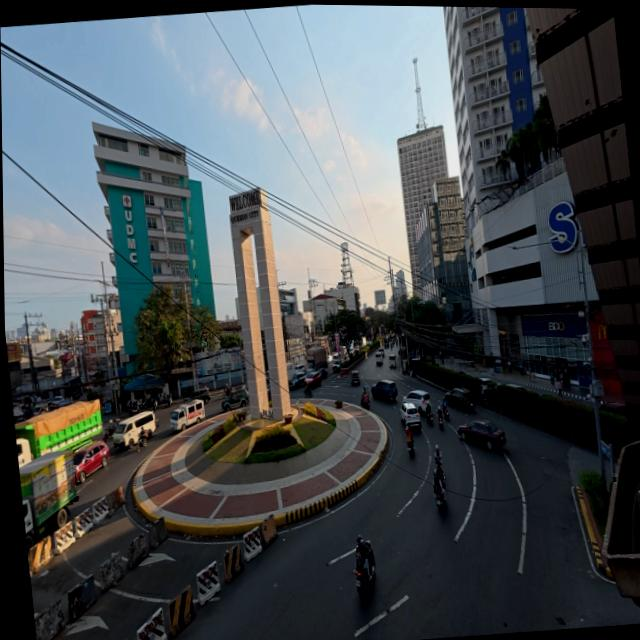car: (71, 439, 112, 484), (458, 420, 505, 449), (222, 385, 249, 411), (404, 390, 432, 414), (446, 388, 475, 411), (400, 402, 421, 430), (371, 381, 398, 400), (600, 402, 627, 416), (289, 371, 307, 389), (187, 388, 210, 402), (480, 378, 497, 396), (305, 371, 322, 389), (33, 405, 50, 415), (507, 383, 528, 391), (54, 399, 72, 408), (51, 396, 64, 407), (351, 370, 361, 384), (319, 368, 328, 379), (294, 364, 306, 371), (333, 362, 340, 372), (383, 340, 390, 348), (378, 348, 384, 356), (349, 347, 354, 356), (366, 339, 371, 345)
motorcycle: (354, 548, 375, 598), (434, 469, 446, 511), (434, 485, 445, 510), (104, 420, 116, 441), (142, 396, 158, 410), (129, 400, 141, 415), (137, 433, 147, 451), (160, 394, 173, 407), (361, 393, 370, 408), (407, 442, 415, 457), (304, 386, 313, 398), (438, 409, 443, 429), (444, 407, 450, 421), (427, 412, 433, 424), (439, 415, 443, 429), (155, 418, 159, 428)
trucks: (19, 451, 76, 550), (14, 400, 102, 457), (306, 347, 327, 370), (17, 439, 32, 467)
vans: (113, 411, 156, 449), (170, 400, 205, 432), (388, 355, 396, 368), (376, 352, 383, 366)
